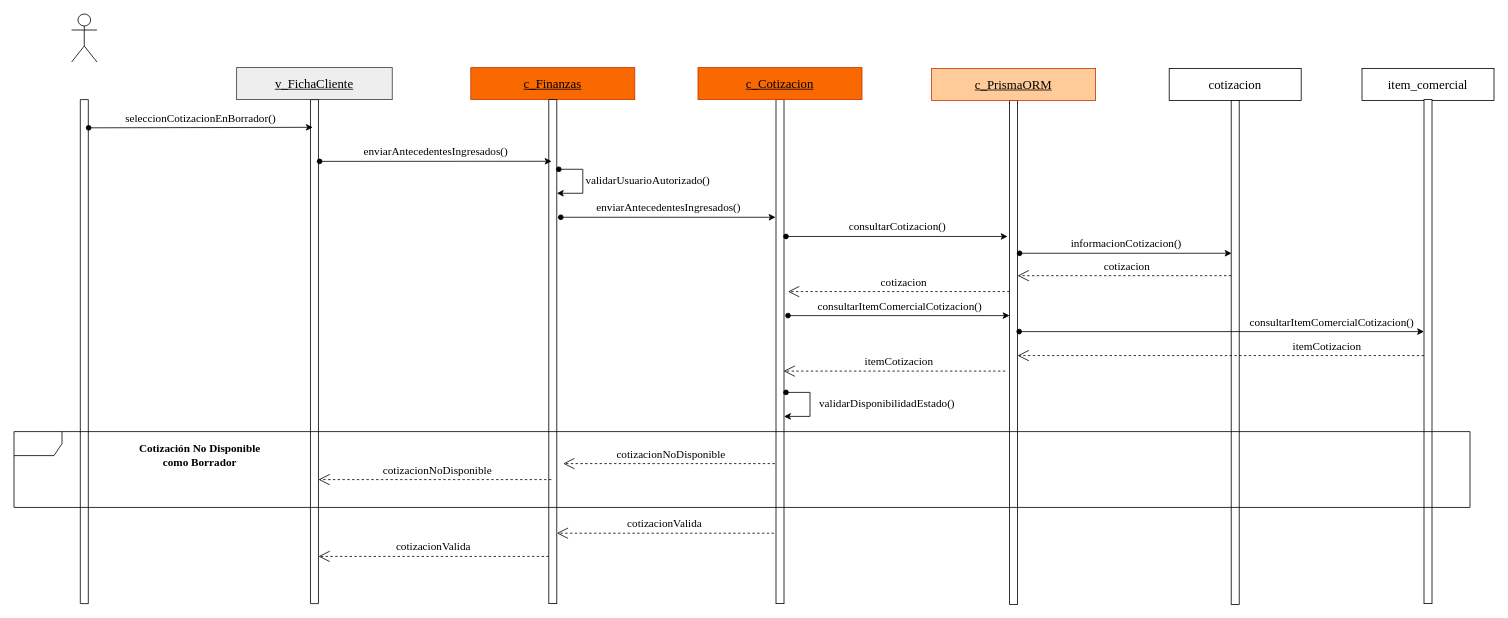
The diagram is 1508 pixels wide and 618 high, and some of its shapes have lost their labels. The shapes that lost their labels are listed below. From the top down, each one's centre as x and y in pixels, then its label:
At point (84, 37): "Usuario Autorizado Gerencia o Secretaria".
At point (741, 469): "Exc1".
